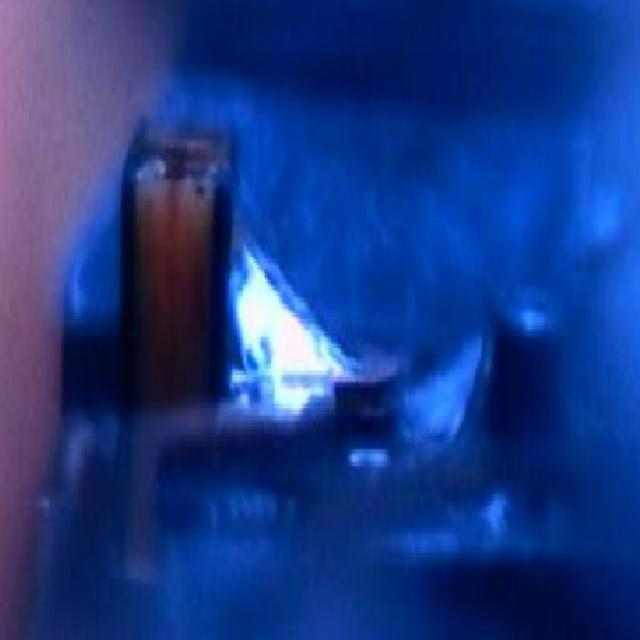Component: (101, 107, 244, 418)
Solder: (216, 190, 358, 408)
